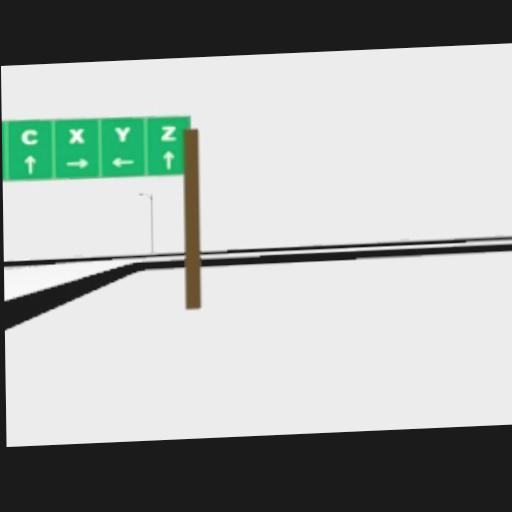C: (20, 123, 40, 150)
